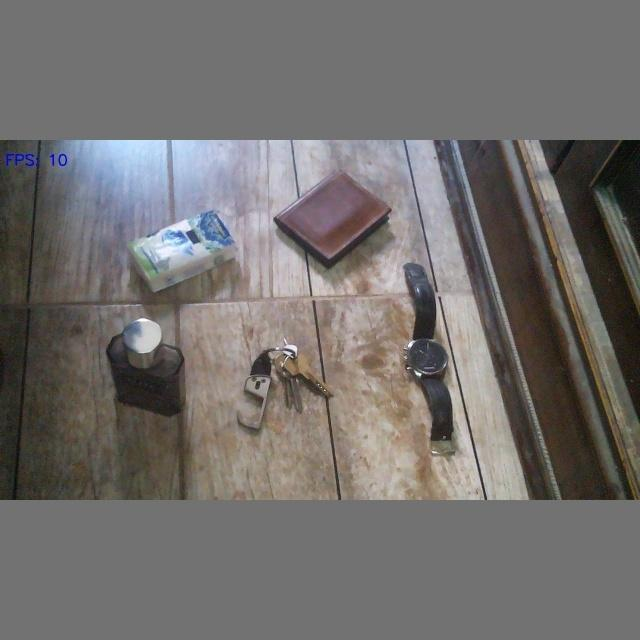Keys: (234, 335, 338, 437)
Wallet: (274, 172, 391, 268)
